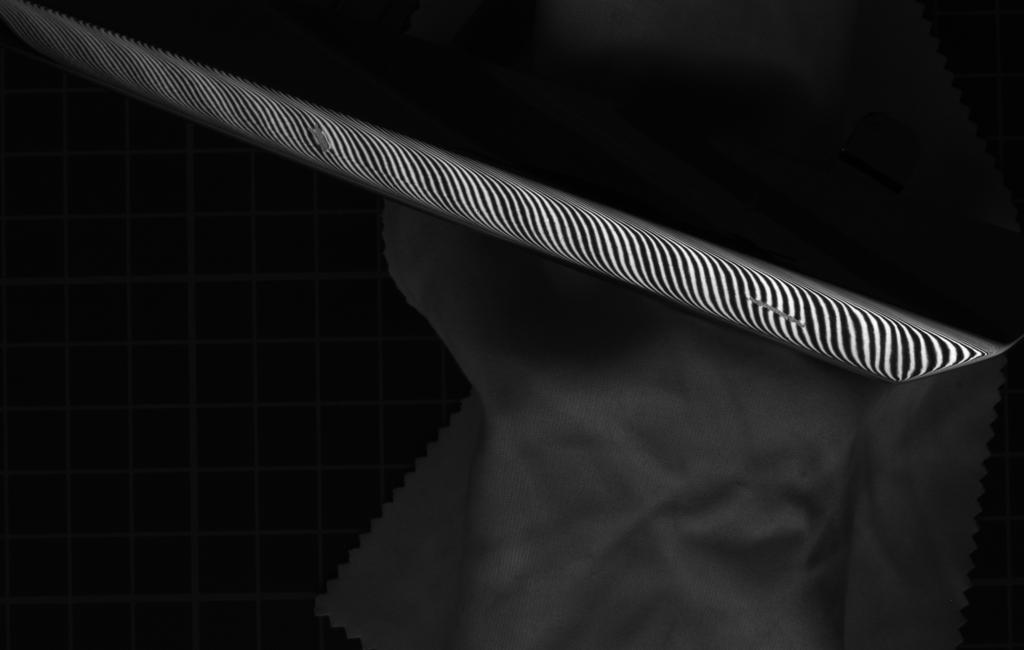Scratch: (742, 291, 825, 331), (310, 120, 334, 159)
